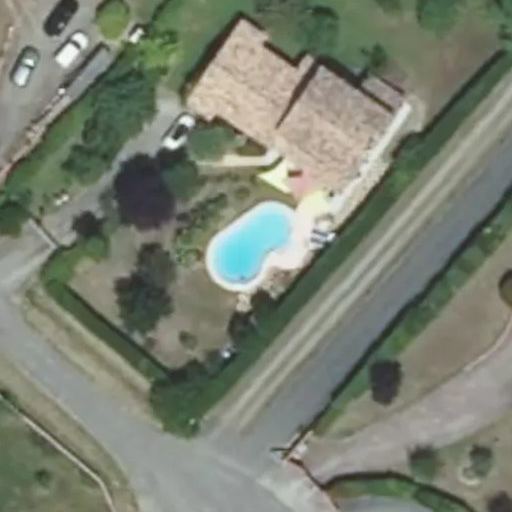pool: (211, 199, 296, 293)
